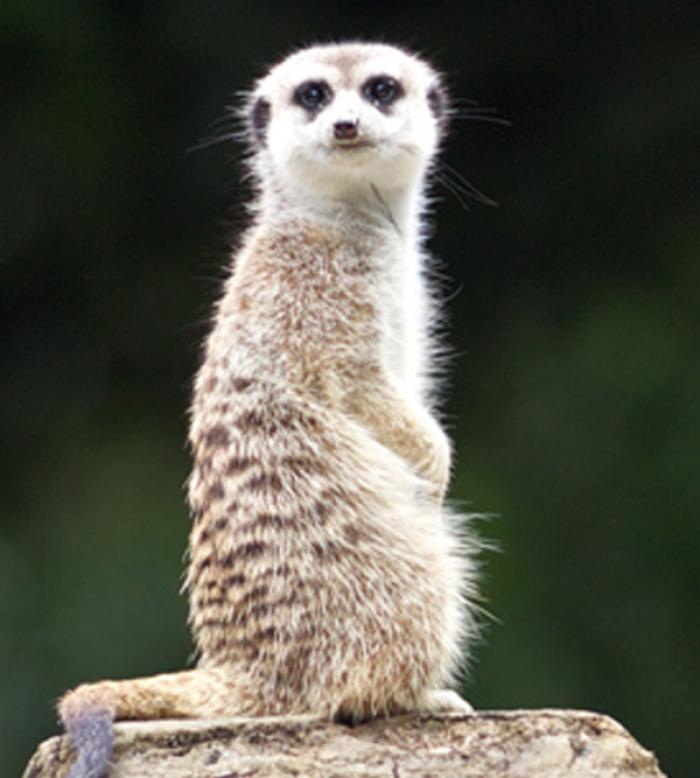meerkat: (152, 16, 543, 752)
